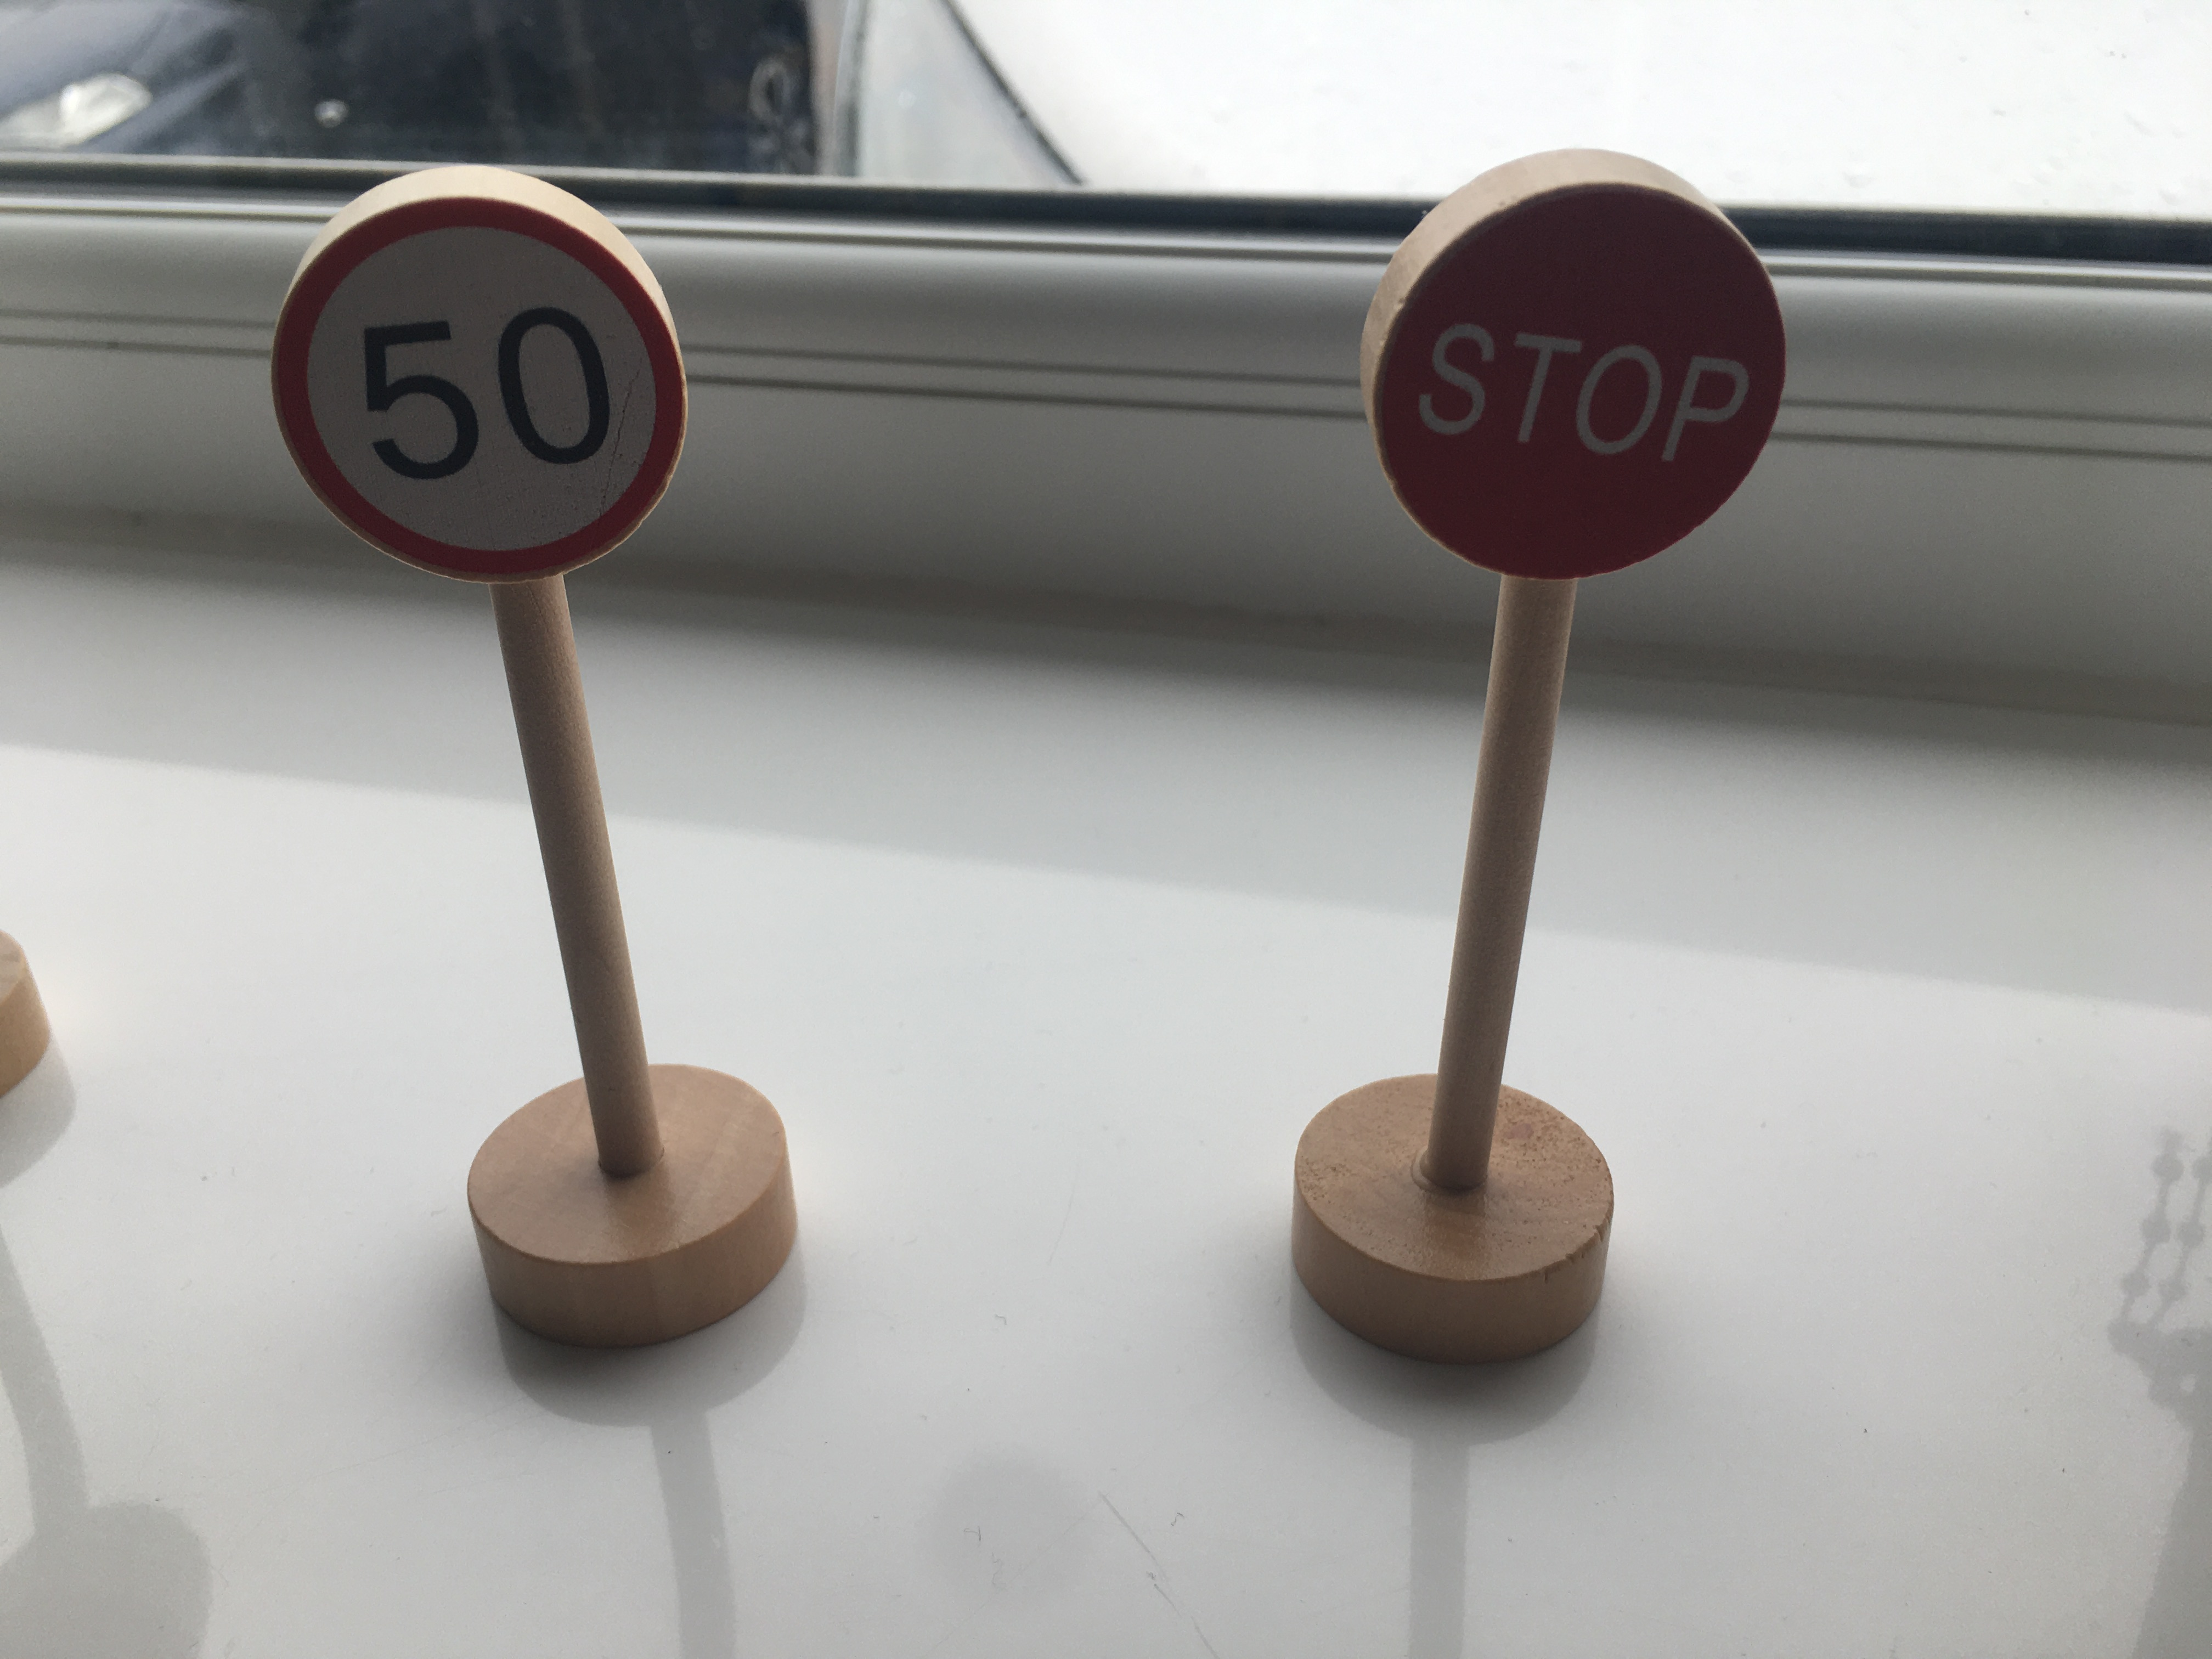Traffic_Sign_50: (260, 143, 718, 601)
Traffic_Sign_Stop: (1299, 129, 1817, 599)
